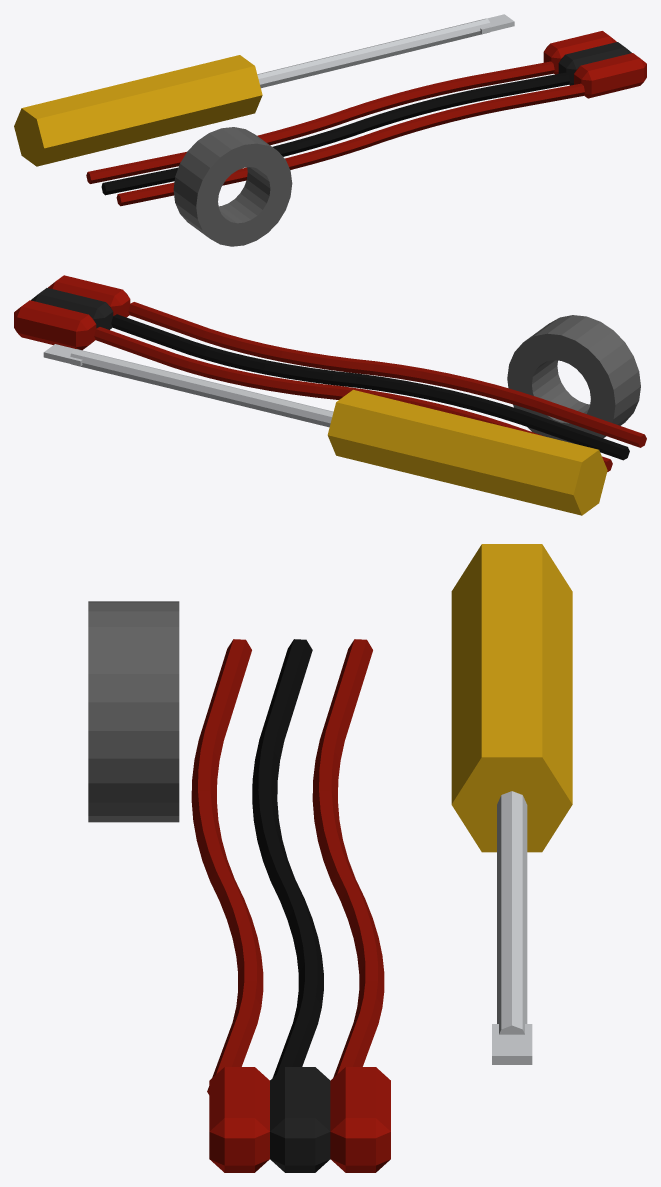
File: kit_ligacao_direta.glb
The picture shows the model from 3 angles, top to bottom: view 1: azimuth 30°, elevation 25°; view 2: azimuth 150°, elevation 25°; view 3: azimuth 270°, elevation 25°; orthographic projection. The views are drawn at different scales.
Parts seen in each view (by area): view 1: kit_ligacao_direta_amarelo_tampa, kit_ligacao_direta_fio_vermelho, kit_ligacao_direta_fita_preta, kit_ligacao_direta_fio_preto, kit_ligacao_direta_aco, kit_ligacao_direta_vermelho_borne, kit_ligacao_direta_plastico_preto; view 2: kit_ligacao_direta_amarelo_tampa, kit_ligacao_direta_fio_vermelho, kit_ligacao_direta_fita_preta, kit_ligacao_direta_fio_preto, kit_ligacao_direta_aco, kit_ligacao_direta_vermelho_borne, kit_ligacao_direta_plastico_preto; view 3: kit_ligacao_direta_amarelo_tampa, kit_ligacao_direta_fio_vermelho, kit_ligacao_direta_fita_preta, kit_ligacao_direta_vermelho_borne, kit_ligacao_direta_fio_preto, kit_ligacao_direta_aco, kit_ligacao_direta_plastico_preto.
Boxes of the visible parts, <box> form: kit_ligacao_direta_amarelo_tampa: <box>14,55,262,166</box>; kit_ligacao_direta_fio_vermelho: <box>86,61,584,206</box>; kit_ligacao_direta_fita_preta: <box>173,127,292,246</box>; kit_ligacao_direta_fio_preto: <box>101,72,569,195</box>; kit_ligacao_direta_aco: <box>257,14,514,88</box>; kit_ligacao_direta_vermelho_borne: <box>543,31,646,98</box>; kit_ligacao_direta_plastico_preto: <box>558,42,631,85</box>; kit_ligacao_direta_amarelo_tampa: <box>327,389,607,515</box>; kit_ligacao_direta_fio_vermelho: <box>94,302,646,471</box>; kit_ligacao_direta_fita_preta: <box>507,315,640,443</box>; kit_ligacao_direta_fio_preto: <box>111,314,629,460</box>; kit_ligacao_direta_aco: <box>43,344,333,427</box>; kit_ligacao_direta_vermelho_borne: <box>14,275,130,350</box>; kit_ligacao_direta_plastico_preto: <box>31,288,113,329</box>; kit_ligacao_direta_amarelo_tampa: <box>451,544,572,852</box>; kit_ligacao_direta_fio_vermelho: <box>191,639,384,1094</box>; kit_ligacao_direta_fita_preta: <box>88,601,179,822</box>; kit_ligacao_direta_vermelho_borne: <box>209,1067,390,1172</box>; kit_ligacao_direta_fio_preto: <box>252,639,323,1077</box>; kit_ligacao_direta_aco: <box>492,791,532,1064</box>; kit_ligacao_direta_plastico_preto: <box>270,1067,330,1172</box>.
Bounding box in the file's own units: 0.25 × 0.044 × 0.096.
